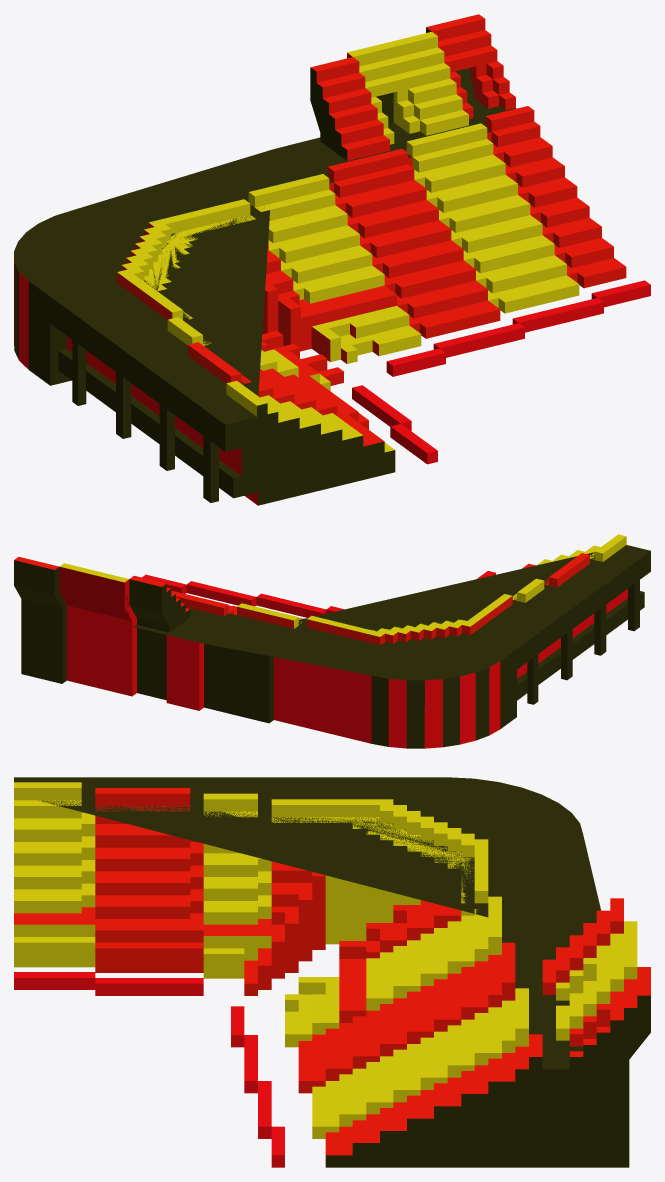
Rendered from estadioFutboModeloColores2.fbx.
3 renders of one model, top to bottom at view 1: azimuth 30°, elevation 25°; view 2: azimuth 150°, elevation 25°; view 3: azimuth 270°, elevation 25°, orthographic. The views are drawn at different scales.
Visible parts, largest first — view 1: Cube; view 2: Cube; view 3: Cube.
Boxes of the visible parts, left/top/right/bottom form: Cube: left=14, top=14, right=650, bottom=505; Cube: left=14, top=534, right=650, bottom=748; Cube: left=14, top=777, right=650, bottom=1167.
Size of the model in its own units: 5100 by 1400 by 4700.
